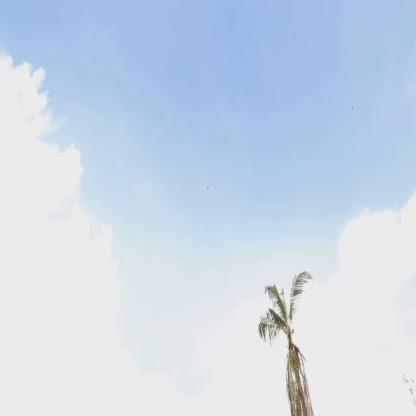drone: (204, 182, 212, 192)
